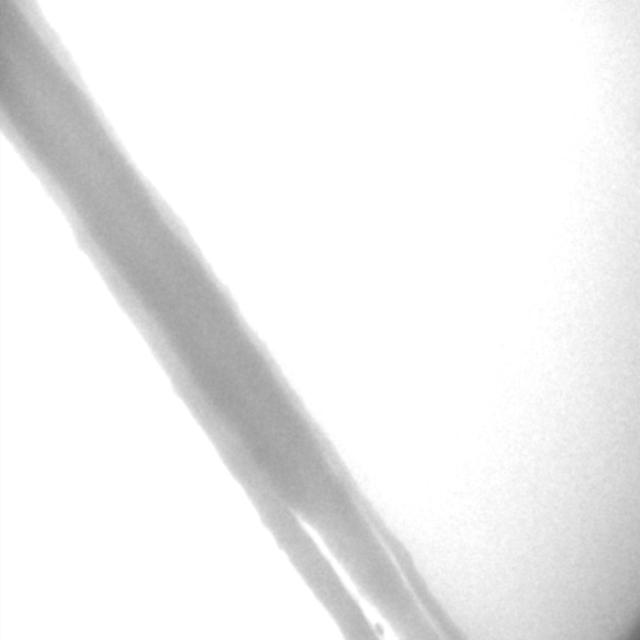unfused: (294, 510, 443, 635)
